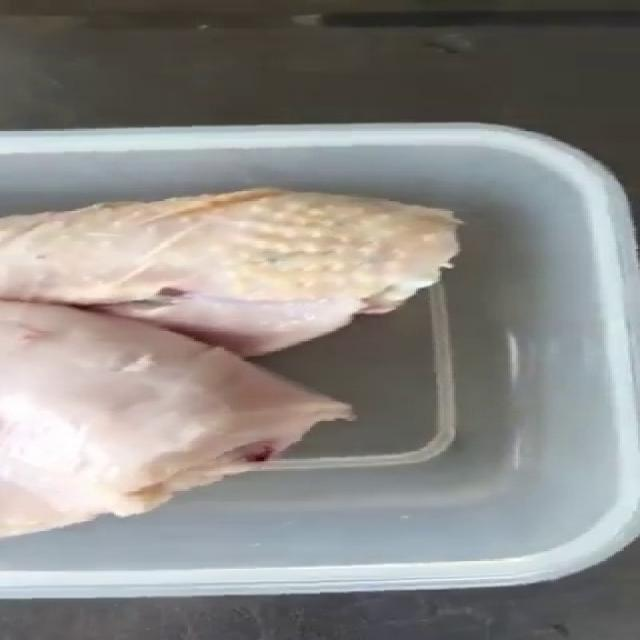chicken: (0, 187, 464, 537)
